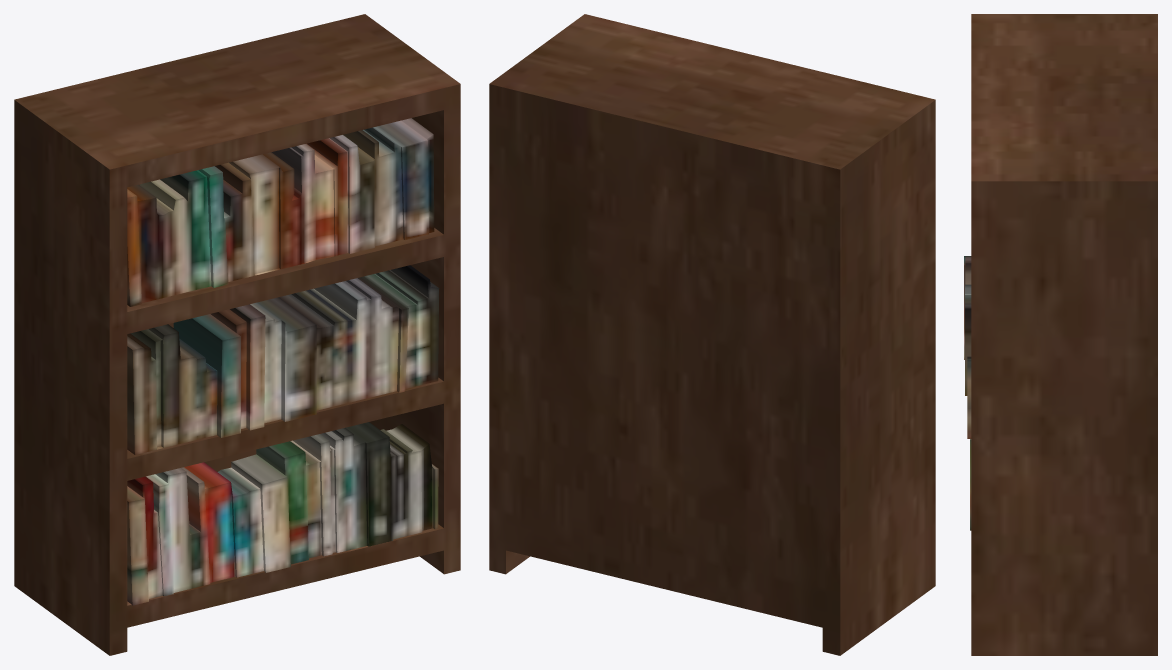
Rendered from bookshelf.gltf.
3 renders of one model, left to right at view 1: azimuth 30°, elevation 25°; view 2: azimuth 150°, elevation 25°; view 3: azimuth 270°, elevation 25°, orthographic. The views are drawn at different scales.
Parts seen in each view (by area): view 1: body; view 2: body; view 3: body.
Part boxes in pixels (x1,y1,x2,y2): body: (14, 14, 460, 655); body: (489, 14, 935, 655); body: (964, 14, 1157, 655).
Size of the model in its own units: 1.4 by 1.85 by 0.6845.
Materials: 2 (2 with a texture image).
